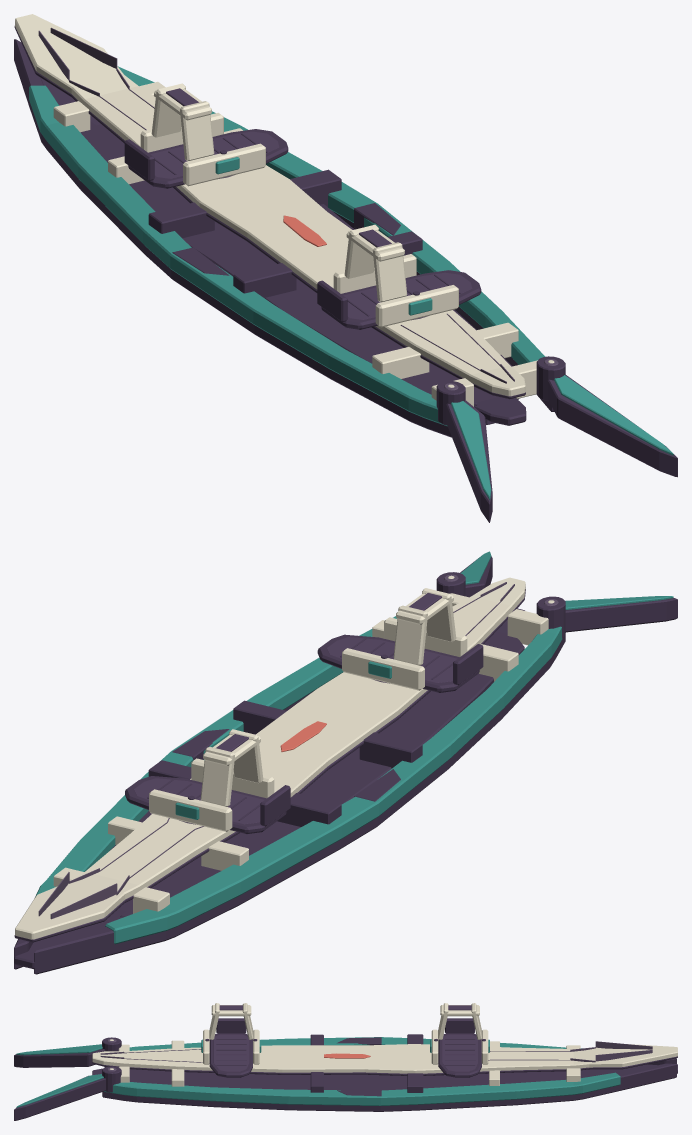
The model's file is kestrel.glb.
The picture shows the model from 3 angles, top to bottom: view 1: azimuth 30°, elevation 25°; view 2: azimuth 150°, elevation 25°; view 3: azimuth 270°, elevation 25°; orthographic projection. The views are drawn at different scales.
Parts seen in each view (by area): view 1: Board_Kestrel_kestrel_ivory, Board_Kestrel_kestrel_plum, Board_Kestrel_kestrel_teal_Detail, FootHold_Rear_kestrel_ivory, FootHold_Front_kestrel_ivory, Fin_Right_kestrel_plum, Fin_Left_kestrel_plum, FootHold_Front_kestrel_binding_pad_Detail, FootHold_Rear_kestrel_binding_pad_Detail, FootHold_Front_kestrel_plum, FootHold_Rear_kestrel_plum, Board_Kestrel_kestrel_seam_Detail (+2 smaller); view 2: Board_Kestrel_kestrel_ivory, Board_Kestrel_kestrel_plum, Board_Kestrel_kestrel_teal_Detail, FootHold_Front_kestrel_ivory, FootHold_Rear_kestrel_ivory, Fin_Left_kestrel_plum, FootHold_Front_kestrel_binding_pad_Detail, FootHold_Rear_kestrel_binding_pad_Detail, FootHold_Rear_kestrel_plum, FootHold_Front_kestrel_plum, Board_Kestrel_kestrel_seam_Detail, Fin_Right_kestrel_plum (+1 smaller); view 3: Board_Kestrel_kestrel_plum, Board_Kestrel_kestrel_ivory, Board_Kestrel_kestrel_teal_Detail, Fin_Right_kestrel_plum, FootHold_Rear_kestrel_binding_pad_Detail, FootHold_Front_kestrel_binding_pad_Detail, Fin_Left_kestrel_plum, Board_Kestrel_kestrel_seam_Detail, FootHold_Front_kestrel_ivory, FootHold_Rear_kestrel_ivory, FootHold_Rear_kestrel_plum, FootHold_Front_kestrel_plum (+5 smaller).
Boxes of the visible parts, x1,y1,x2,y2 form: Board_Kestrel_kestrel_ivory: (15,14,537,406); Board_Kestrel_kestrel_plum: (14,26,554,437); Board_Kestrel_kestrel_teal_Detail: (29,66,545,426); FootHold_Rear_kestrel_ivory: (333,224,458,327); FootHold_Front_kestrel_ivory: (140,83,265,186); Fin_Right_kestrel_plum: (536,356,677,477); Fin_Left_kestrel_plum: (436,381,492,522); FootHold_Front_kestrel_binding_pad_Detail: (150,88,279,178); FootHold_Rear_kestrel_binding_pad_Detail: (343,229,472,319); FootHold_Front_kestrel_plum: (124,129,288,188); FootHold_Rear_kestrel_plum: (317,270,481,329); Board_Kestrel_kestrel_seam_Detail: (38,27,514,383); Board_Kestrel_kestrel_ivory: (15,577,548,939); Board_Kestrel_kestrel_plum: (14,589,565,974); Board_Kestrel_kestrel_teal_Detail: (35,616,565,944); FootHold_Front_kestrel_ivory: (149,729,274,831); FootHold_Rear_kestrel_ivory: (342,588,467,690); Fin_Left_kestrel_plum: (536,596,677,638); FootHold_Front_kestrel_binding_pad_Detail: (134,734,264,824); FootHold_Rear_kestrel_binding_pad_Detail: (326,593,457,682); FootHold_Rear_kestrel_plum: (317,634,483,692); FootHold_Front_kestrel_plum: (125,776,290,833); Board_Kestrel_kestrel_seam_Detail: (38,582,514,919); Fin_Right_kestrel_plum: (436,556,492,597); Board_Kestrel_kestrel_plum: (92,1034,677,1111); Board_Kestrel_kestrel_ivory: (92,1040,677,1086); Board_Kestrel_kestrel_teal_Detail: (104,1037,620,1105); Fin_Right_kestrel_plum: (14,1066,121,1120); FootHold_Rear_kestrel_binding_pad_Detail: (213,1005,249,1071); FootHold_Front_kestrel_binding_pad_Detail: (442,1005,477,1071); Fin_Left_kestrel_plum: (14,1037,121,1067); Board_Kestrel_kestrel_seam_Detail: (100,1041,652,1062); FootHold_Front_kestrel_ivory: (431,1003,488,1064); FootHold_Rear_kestrel_ivory: (203,1003,259,1064); FootHold_Rear_kestrel_plum: (209,1018,252,1077); FootHold_Front_kestrel_plum: (438,1018,481,1077).
Size of the model in its own units: 0.4 by 0.2485 by 1.86.
